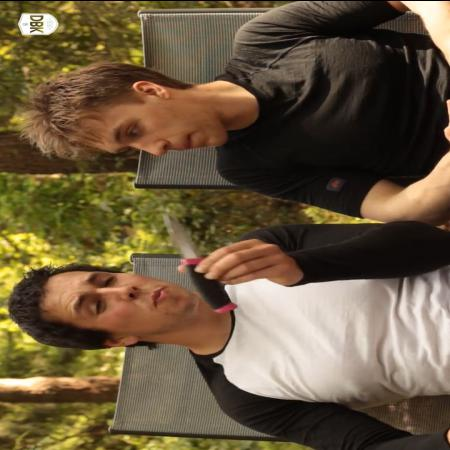long weapon: (152, 207, 242, 317)
